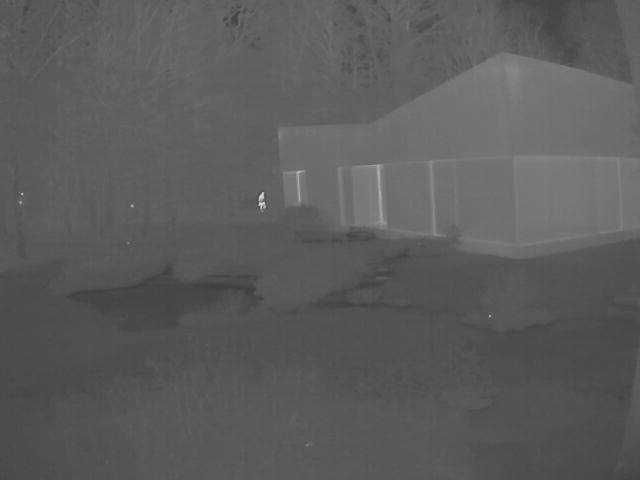person: (259, 191, 268, 211)
